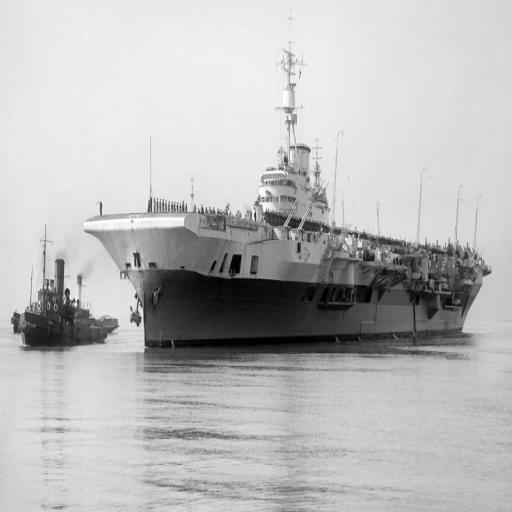Portanaves: (83, 11, 495, 356)
